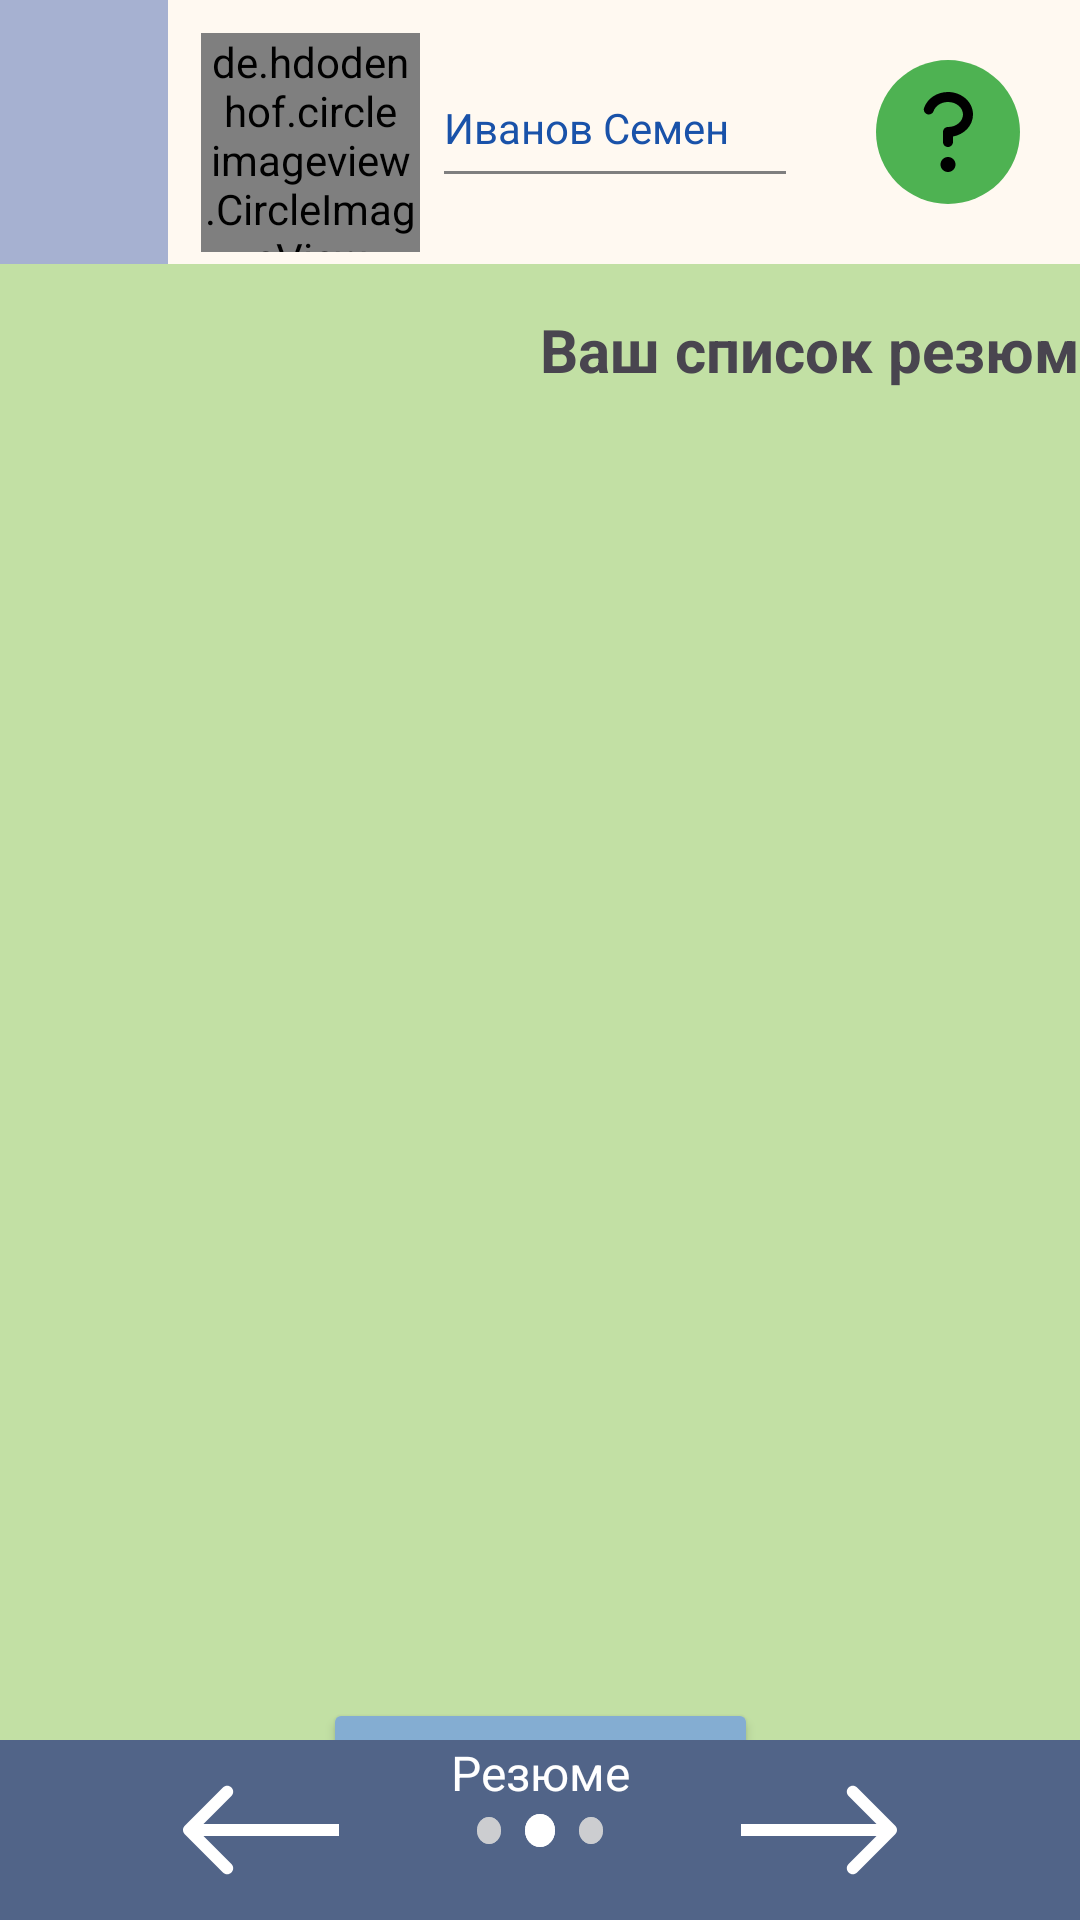

Named icons in this screenshot (1080×1920) and their centers, point (x, y):
arrow left: point (261, 1830)
arrow right: point (819, 1830)
question: point (948, 132)
